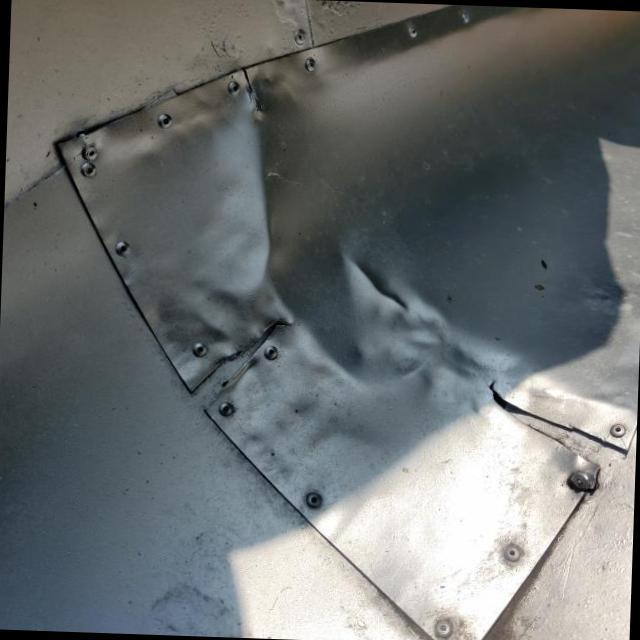Dent: (189, 58, 542, 404)
Rupture: (476, 366, 638, 484), (177, 296, 306, 430), (225, 58, 282, 124)
